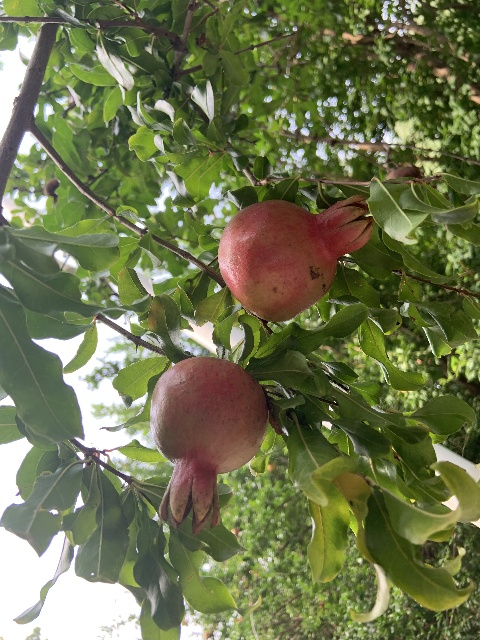ripe: (150, 357, 267, 533), (217, 196, 373, 322)
